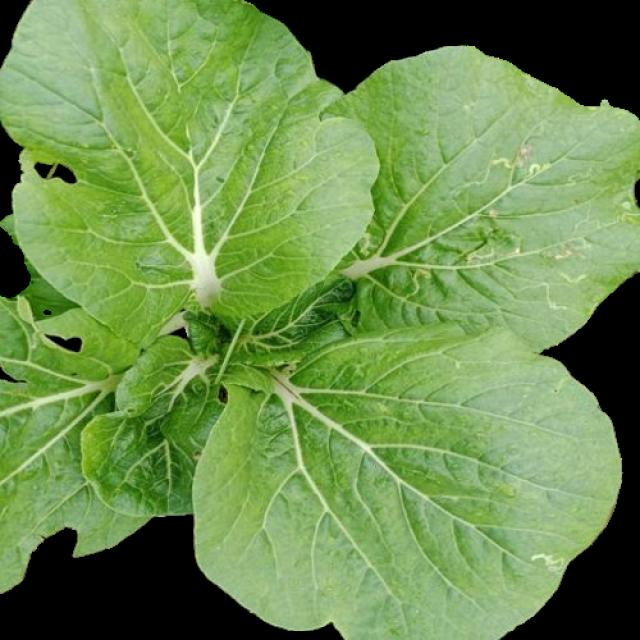mature: (1, 5, 639, 639)
unhealthy: (193, 328, 620, 636), (2, 7, 379, 346), (331, 52, 640, 348), (3, 216, 224, 602)
